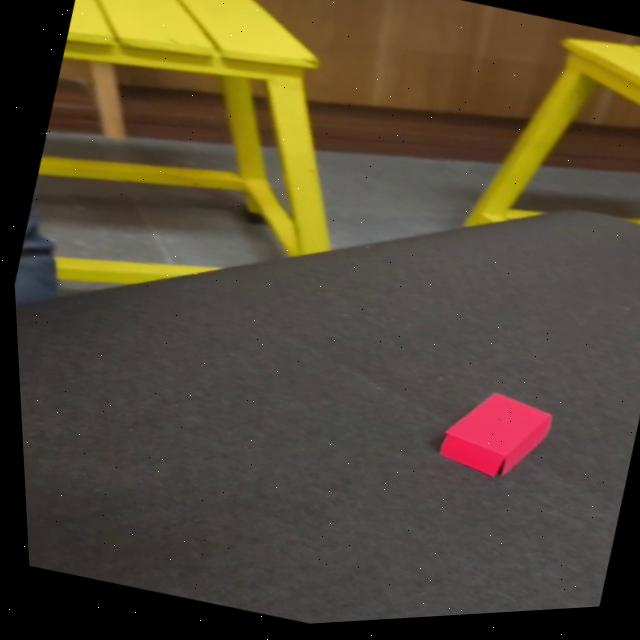red block: (429, 374, 558, 491)
